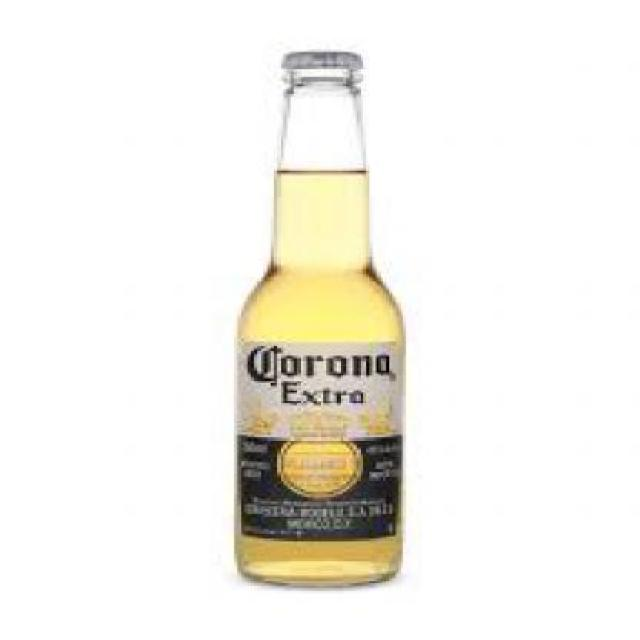GLASS: (228, 67, 402, 588)
METAL: (278, 49, 359, 69)
